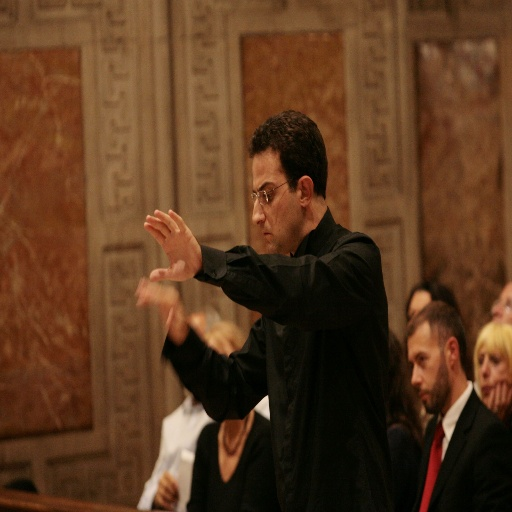hand: (139, 206, 206, 299), (135, 276, 184, 335), (153, 469, 182, 511), (486, 377, 511, 420)
